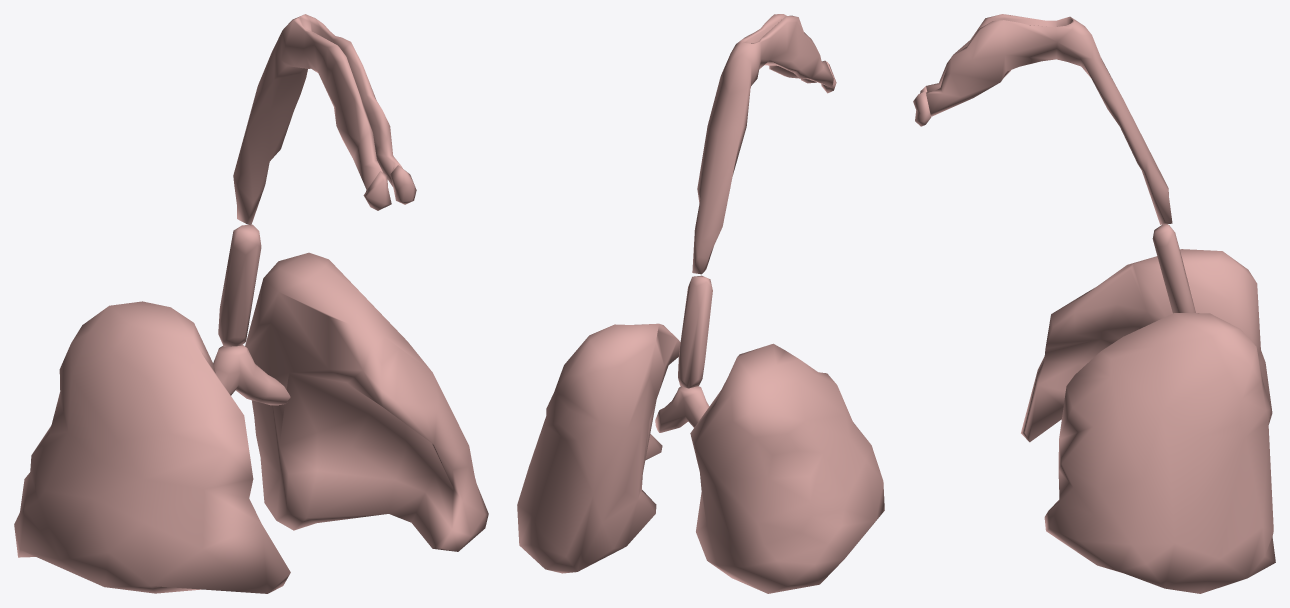
File: pediatric_neonate_female.respiratory.LOD3.glb
3 views of the same model, side by side, from view 1: azimuth 30°, elevation 25°; view 2: azimuth 150°, elevation 25°; view 3: azimuth 270°, elevation 25° (orthographic). The views are drawn at different scales.
Visible parts, largest first — view 1: PEDIATRIC.NEONATE.FEMALE.RESPIRATORY.LUNG.R, PEDIATRIC.NEONATE.FEMALE.RESPIRATORY.LUNG.L, PEDIATRIC.NEONATE.FEMALE.RESPIRATORY.ET2, PEDIATRIC.NEONATE.FEMALE.RESPIRATORY.TRACHEA, PEDIATRIC.NEONATE.FEMALE.RESPIRATORY.BB1, PEDIATRIC.NEONATE.FEMALE.RESPIRATORY.ET1; view 2: PEDIATRIC.NEONATE.FEMALE.RESPIRATORY.LUNG.R, PEDIATRIC.NEONATE.FEMALE.RESPIRATORY.LUNG.L, PEDIATRIC.NEONATE.FEMALE.RESPIRATORY.ET2, PEDIATRIC.NEONATE.FEMALE.RESPIRATORY.TRACHEA, PEDIATRIC.NEONATE.FEMALE.RESPIRATORY.BB1; view 3: PEDIATRIC.NEONATE.FEMALE.RESPIRATORY.LUNG.L, PEDIATRIC.NEONATE.FEMALE.RESPIRATORY.LUNG.R, PEDIATRIC.NEONATE.FEMALE.RESPIRATORY.ET2, PEDIATRIC.NEONATE.FEMALE.RESPIRATORY.TRACHEA, PEDIATRIC.NEONATE.FEMALE.RESPIRATORY.ET1.
Part boxes in pixels (bbox=[...]): PEDIATRIC.NEONATE.FEMALE.RESPIRATORY.LUNG.R: bbox=[14, 301, 290, 593]; PEDIATRIC.NEONATE.FEMALE.RESPIRATORY.LUNG.L: bbox=[245, 252, 488, 551]; PEDIATRIC.NEONATE.FEMALE.RESPIRATORY.ET2: bbox=[233, 14, 402, 225]; PEDIATRIC.NEONATE.FEMALE.RESPIRATORY.TRACHEA: bbox=[218, 224, 261, 346]; PEDIATRIC.NEONATE.FEMALE.RESPIRATORY.BB1: bbox=[213, 345, 290, 405]; PEDIATRIC.NEONATE.FEMALE.RESPIRATORY.ET1: bbox=[363, 165, 416, 210]; PEDIATRIC.NEONATE.FEMALE.RESPIRATORY.LUNG.R: bbox=[690, 343, 884, 593]; PEDIATRIC.NEONATE.FEMALE.RESPIRATORY.LUNG.L: bbox=[517, 323, 680, 573]; PEDIATRIC.NEONATE.FEMALE.RESPIRATORY.ET2: bbox=[692, 14, 833, 274]; PEDIATRIC.NEONATE.FEMALE.RESPIRATORY.TRACHEA: bbox=[678, 275, 712, 388]; PEDIATRIC.NEONATE.FEMALE.RESPIRATORY.BB1: bbox=[655, 386, 709, 432]; PEDIATRIC.NEONATE.FEMALE.RESPIRATORY.LUNG.L: bbox=[1044, 313, 1275, 593]; PEDIATRIC.NEONATE.FEMALE.RESPIRATORY.LUNG.R: bbox=[1021, 249, 1272, 442]; PEDIATRIC.NEONATE.FEMALE.RESPIRATORY.ET2: bbox=[926, 14, 1172, 224]; PEDIATRIC.NEONATE.FEMALE.RESPIRATORY.TRACHEA: bbox=[1152, 224, 1195, 313]; PEDIATRIC.NEONATE.FEMALE.RESPIRATORY.ET1: bbox=[913, 86, 931, 126].
Bounding box in the file's own units: 0.0957 × 0.133 × 0.0876.
